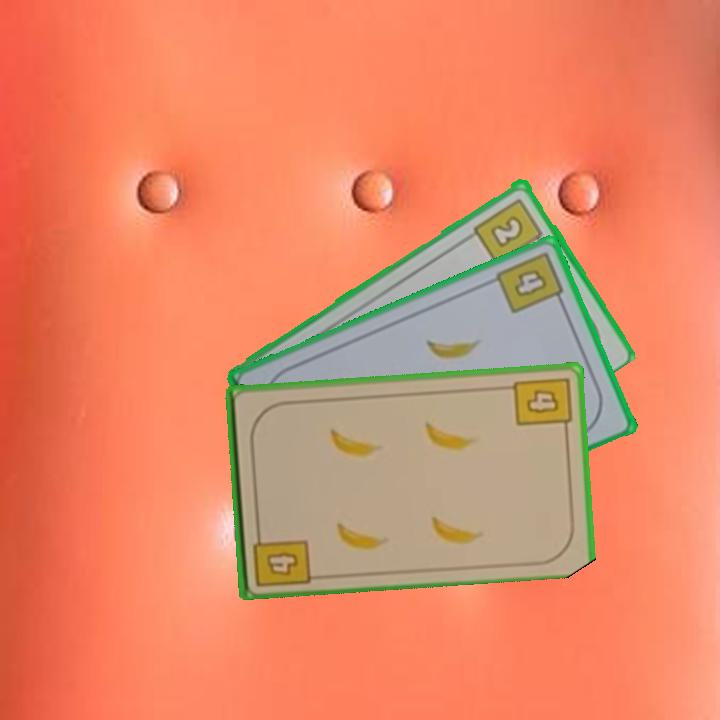2b: (470, 194, 548, 267)
4b: (492, 247, 568, 316), (249, 524, 312, 589), (510, 373, 574, 436)
